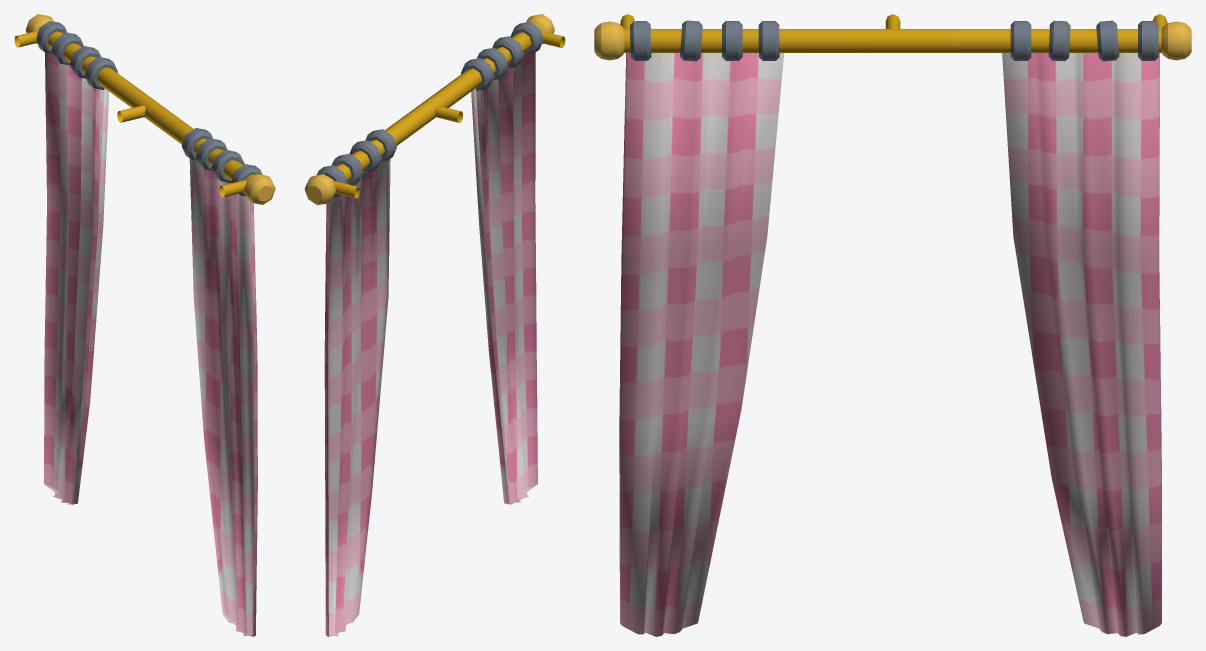
File: Curtains_Long_1_A_A.glb
3 renders of one model, left to right at view 1: azimuth 30°, elevation 25°; view 2: azimuth 150°, elevation 25°; view 3: azimuth 270°, elevation 25°, orthographic. The views are drawn at different scales.
Visible parts, largest first — view 1: Curtains_Long_1_A_A; view 2: Curtains_Long_1_A_A; view 3: Curtains_Long_1_A_A.
Part boxes in pixels (x1,y1,x2,y2): Curtains_Long_1_A_A: (14,14,275,636); Curtains_Long_1_A_A: (304,14,565,636); Curtains_Long_1_A_A: (594,14,1191,636).
Size of the model in its own units: 0.2268 by 2.28 by 2.02.
Materials: 2 (2 with a texture image).
